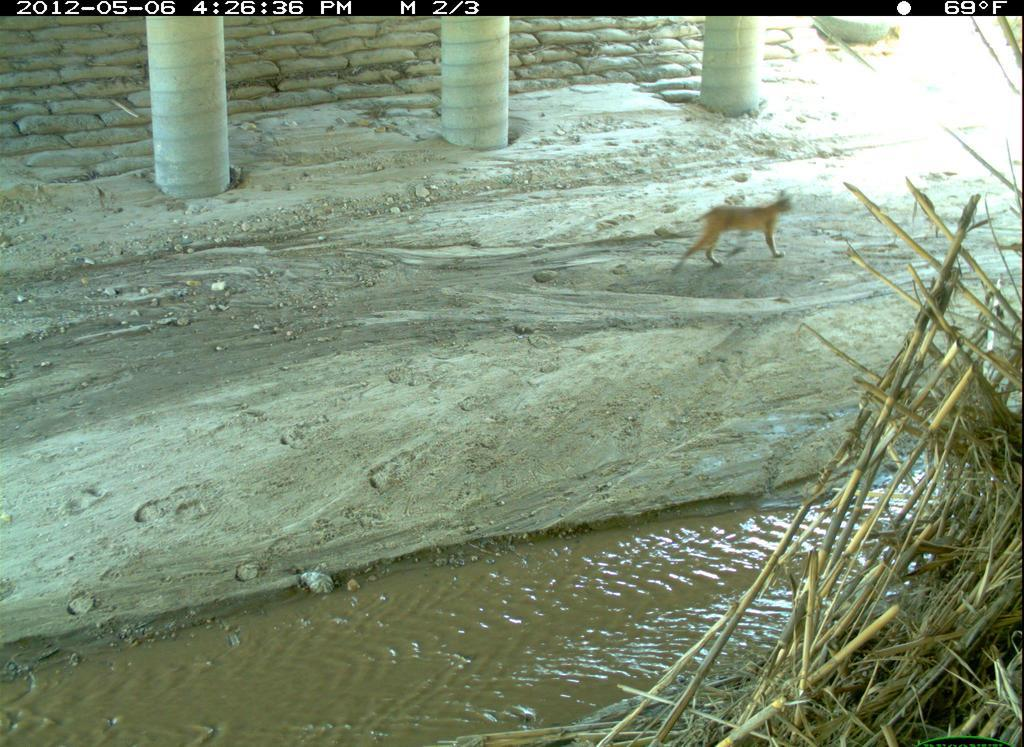bobcat: (669, 189, 795, 272)
